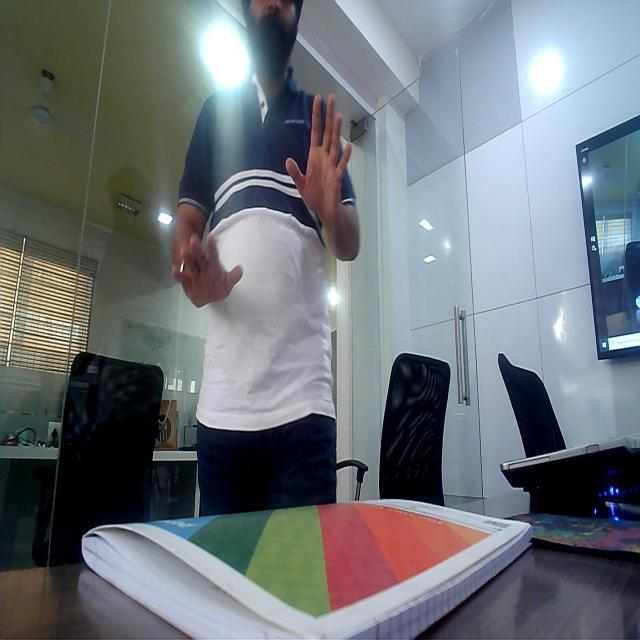without_gloves: (254, 69, 370, 235), (169, 219, 246, 314)
